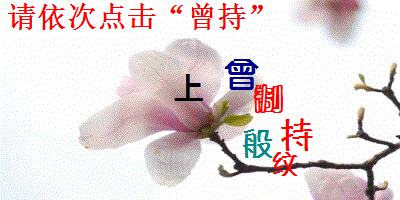result: (188, 1, 247, 31)
text: (223, 57, 260, 92), (280, 118, 313, 154), (242, 126, 274, 160), (173, 72, 205, 105), (252, 83, 286, 114), (271, 150, 299, 179)
